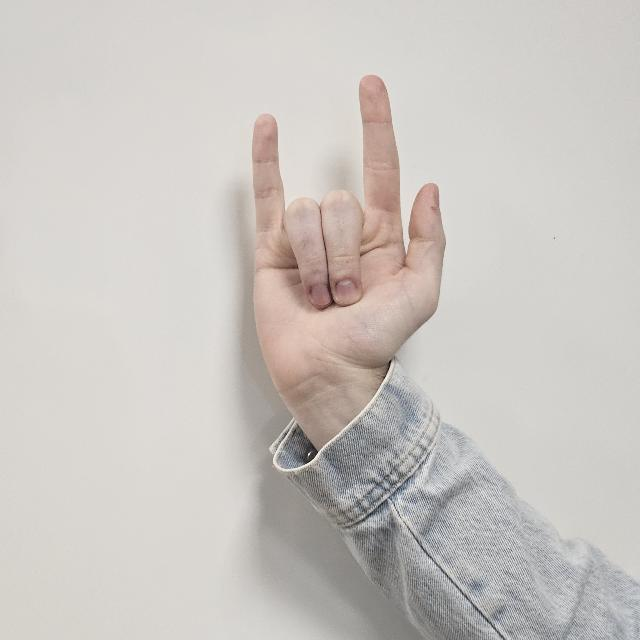L: (253, 68, 443, 410)
